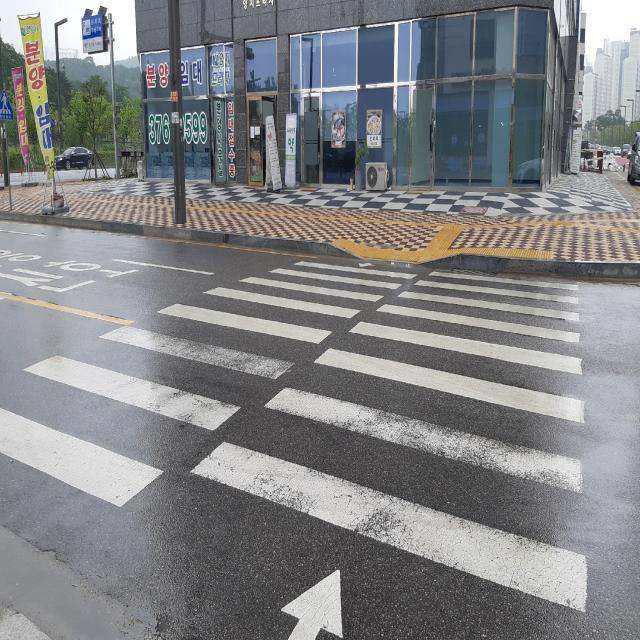횡단보도: (0, 260, 590, 640)
